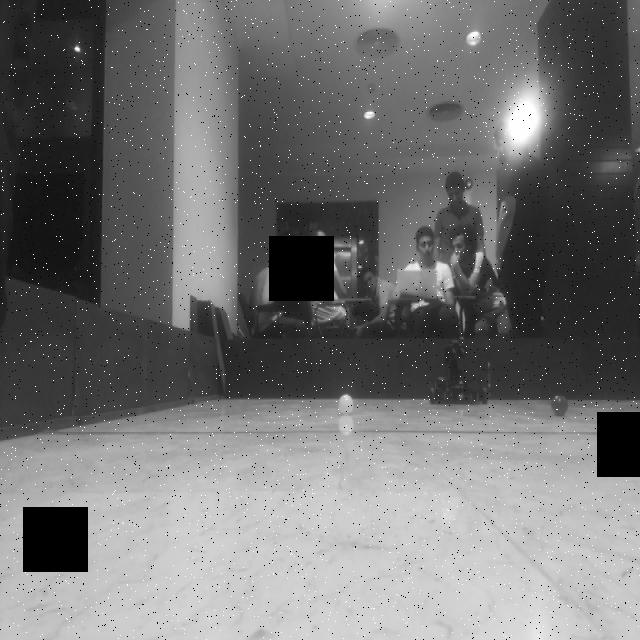ball: (549, 392, 573, 419), (334, 392, 358, 419)
